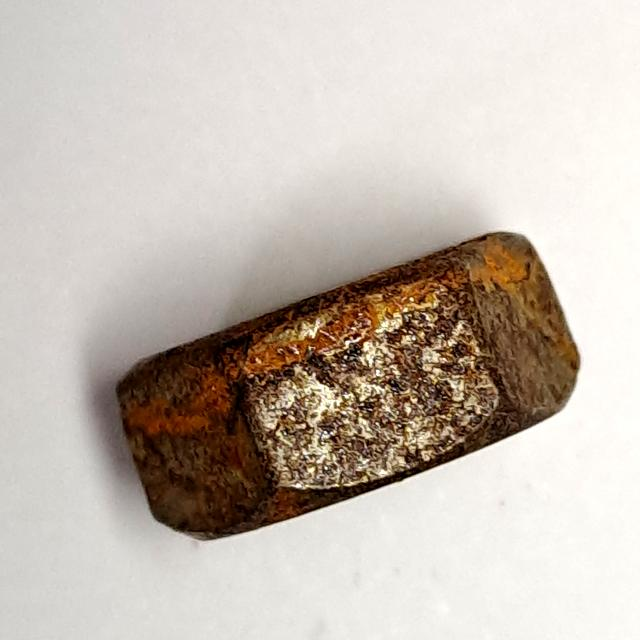Side_Rust: (104, 224, 592, 548)
